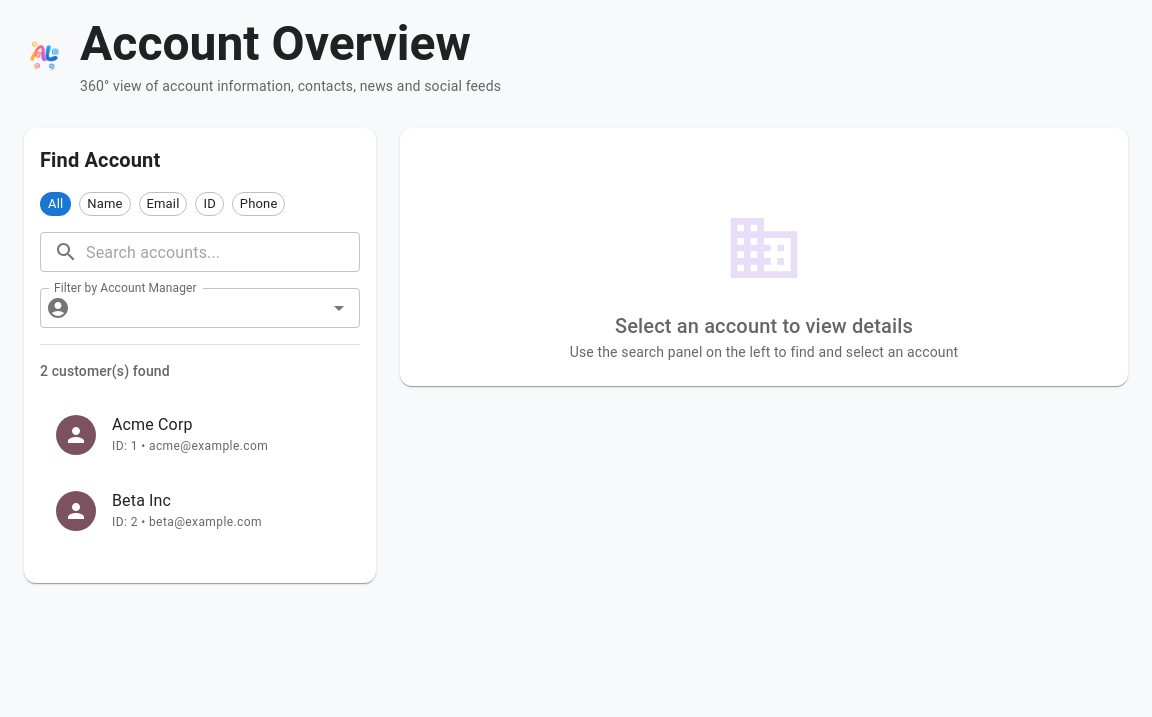
Test: AccountOverviewPage — Merge with... › shows a "Merge with..." action once an account is selected
The image size is (1152, 717).
Click the text "Acme Corp" at coordinates (152, 424), box [112,415,193,434]
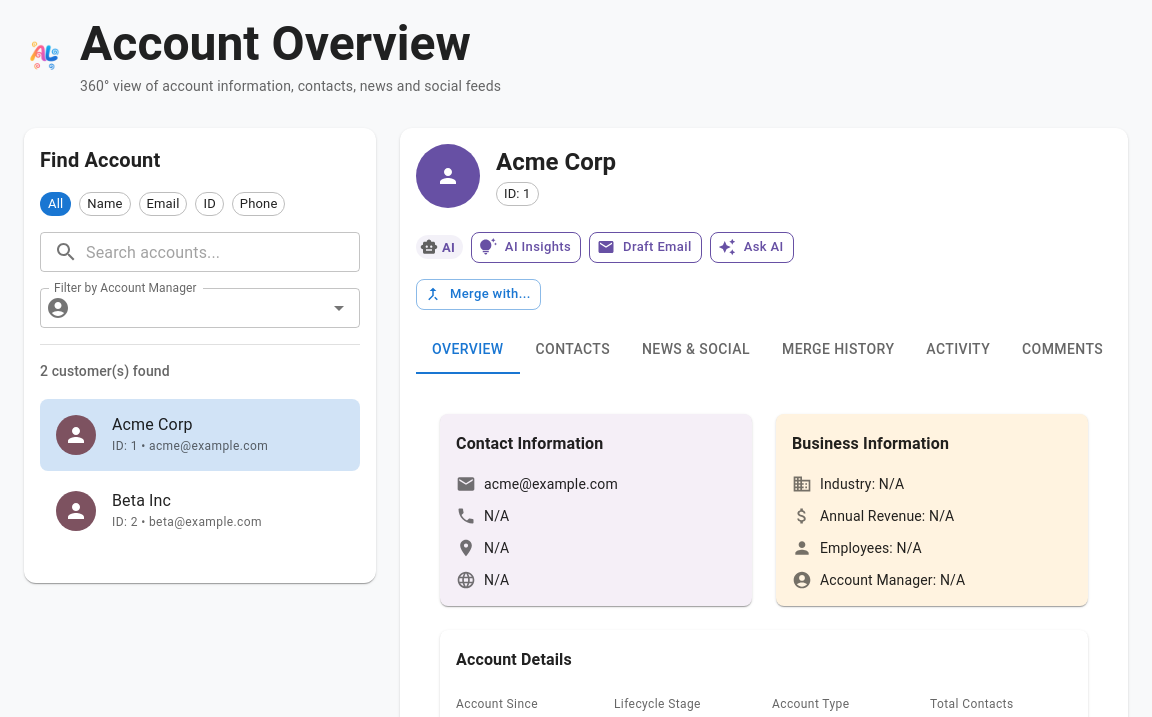
Expected: the button "Merge with..." is shown, [416,279,541,310]
